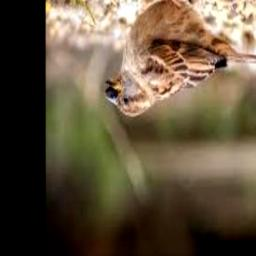Sparrow: (105, 0, 256, 118)
